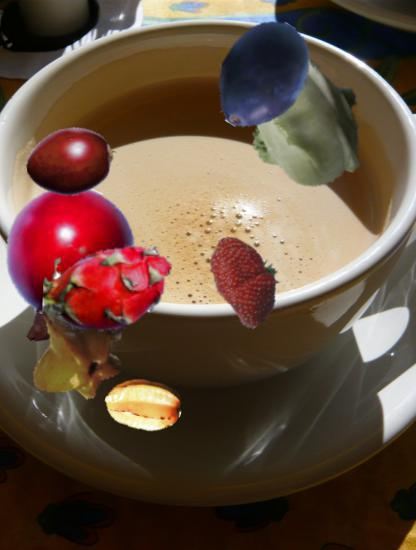Carambula: (28, 302, 128, 402), (105, 366, 182, 443)
Kohlrabi: (239, 57, 373, 191)
Pitahaya: (43, 223, 173, 353)
Plum: (205, 18, 321, 134)
Salak: (21, 284, 89, 352)
Strawberry: (200, 232, 292, 324)
Tamarillo: (4, 186, 139, 321), (26, 116, 118, 208)
